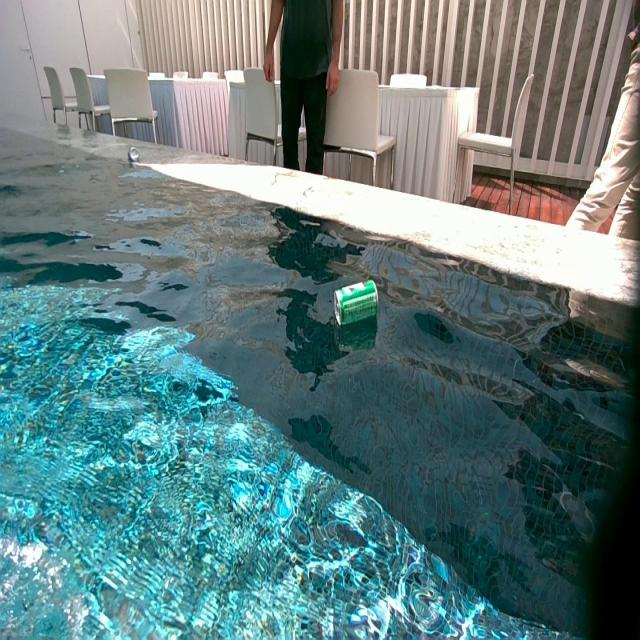Cans: (336, 282, 376, 332), (130, 146, 140, 160)
